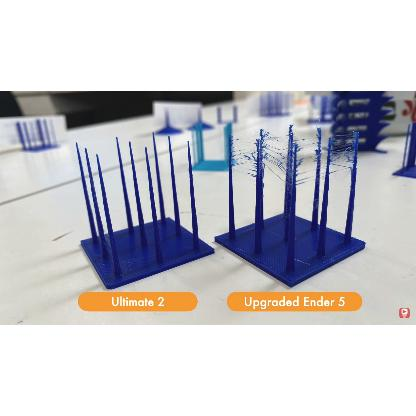fail: (230, 126, 362, 184)
